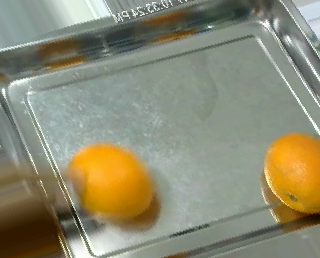Orange: (67, 142, 154, 219), (262, 132, 319, 213)
